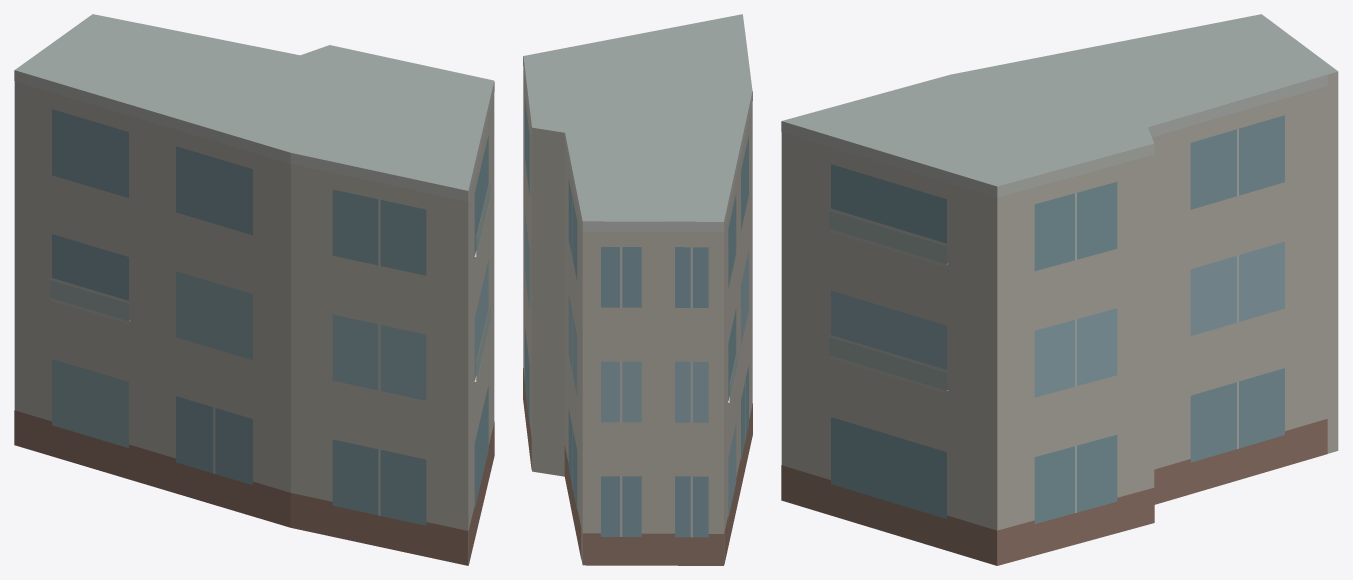
The model's file is survey-upis-33018862.glb.
3 renders of one model, left to right at view 1: azimuth 30°, elevation 25°; view 2: azimuth 150°, elevation 25°; view 3: azimuth 270°, elevation 25°, orthographic. The views are drawn at different scales.
Parts seen in each view (by area): view 1: survey-upis-33018862.tmp; view 2: survey-upis-33018862.tmp; view 3: survey-upis-33018862.tmp.
Boxes of the visible parts, box(x1,y1,x2,y2) form: survey-upis-33018862.tmp: box(14, 14, 494, 565); survey-upis-33018862.tmp: box(523, 14, 752, 565); survey-upis-33018862.tmp: box(781, 14, 1338, 565).
Size of the model in its own units: 8.1 by 8.3 by 11.05.
